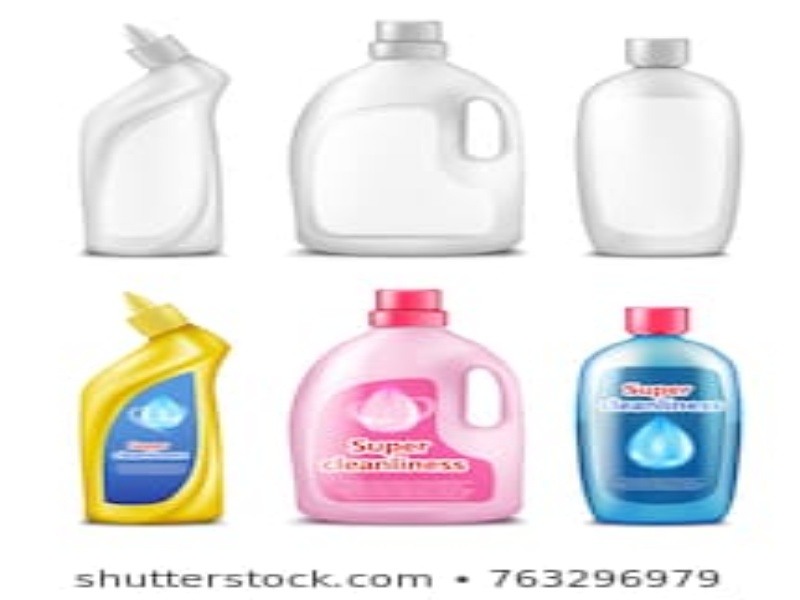detergent-bottle: (272, 4, 540, 267), (278, 284, 540, 533), (40, 8, 244, 265), (53, 281, 248, 547), (569, 301, 764, 536), (564, 28, 752, 268)
